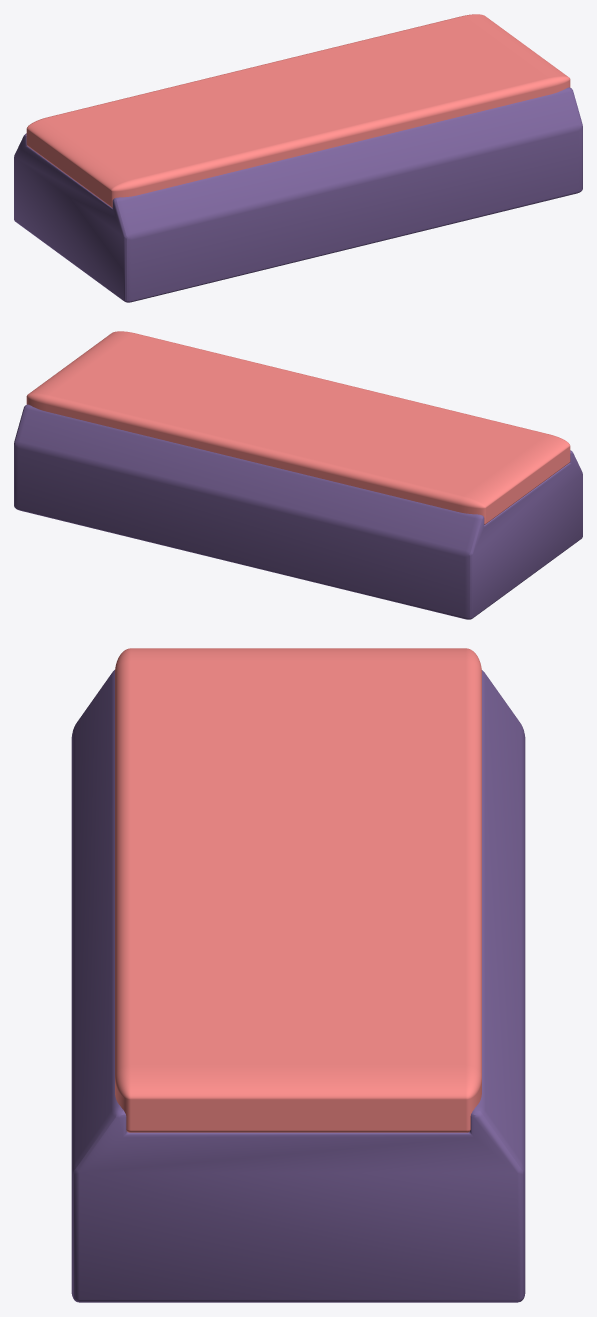
3 renders of one model, top to bottom at view 1: azimuth 30°, elevation 25°; view 2: azimuth 150°, elevation 25°; view 3: azimuth 270°, elevation 25°, orthographic. The views are drawn at different scales.
Visible parts, largest first — view 1: Cube.010, Plane.004; view 2: Cube.010, Plane.004; view 3: Plane.004, Cube.010.
Part boxes in pixels (<box>): Cube.010: <box>14,87,582,302</box>; Plane.004: <box>26,14,570,207</box>; Cube.010: <box>14,404,582,619</box>; Plane.004: <box>26,331,570,524</box>; Plane.004: <box>115,648,481,1132</box>; Cube.010: <box>71,670,525,1302</box>.
Bounding box in the file's own units: 311 × 70.78 × 133.
